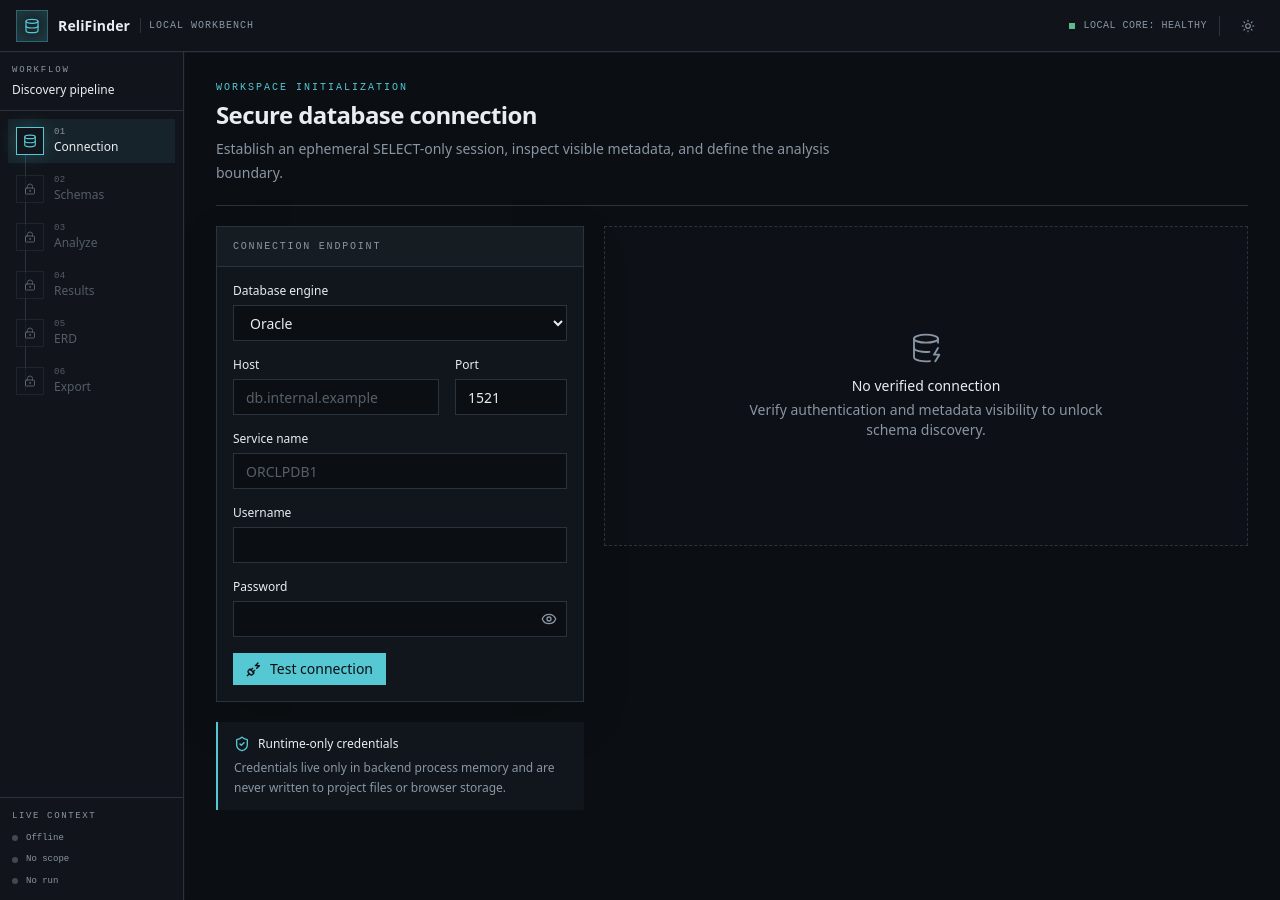
Test case: secure connection and schema workflow › disables duplicate submission while connection verification is running
Type "db.example.invalid" into the field labelled "Host" at (336, 397), box [233, 379, 439, 415]
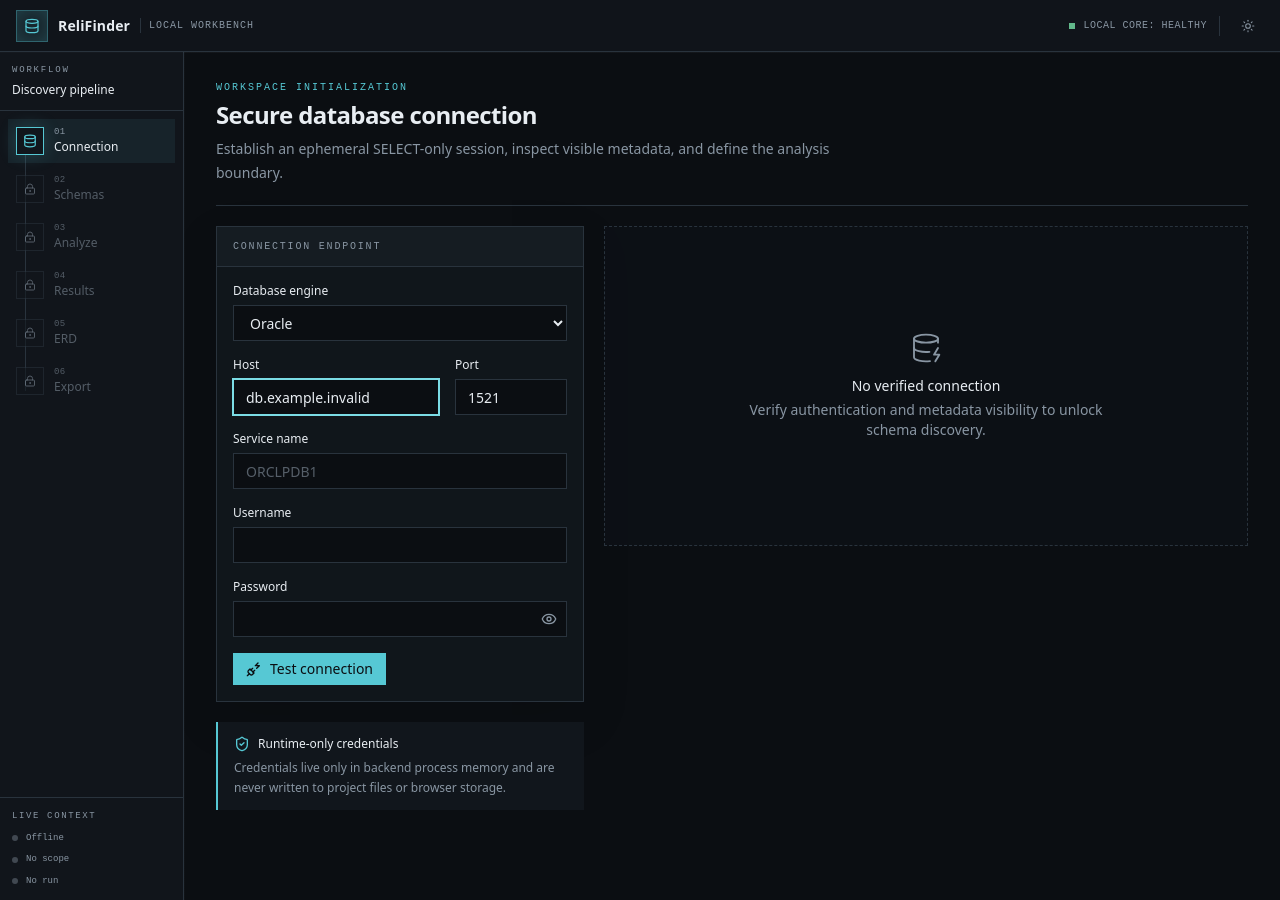
Type "FAKE_SERVICE" into the field labelled "Service name" at (400, 471), box [233, 453, 567, 489]
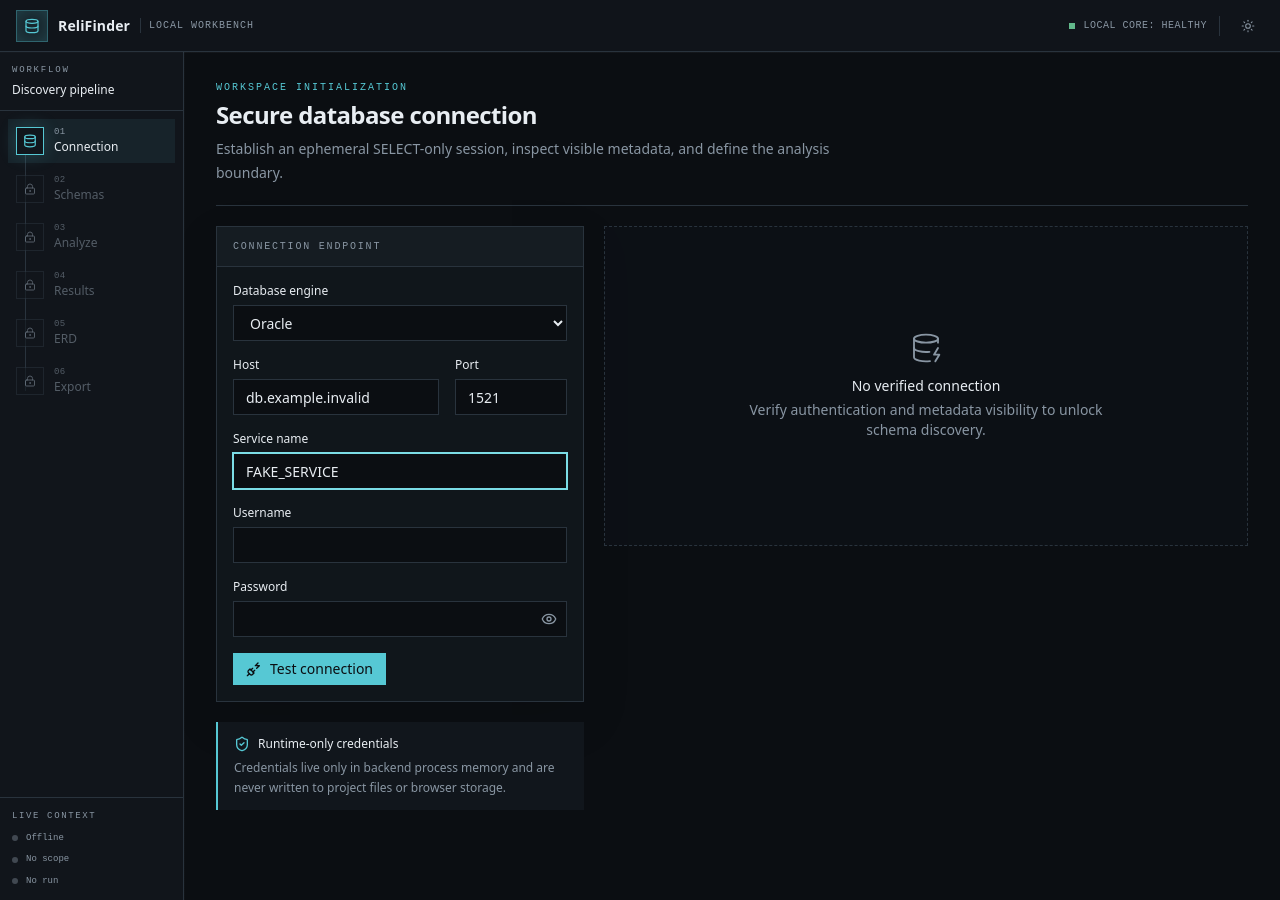
Type "FAKE_USER" into the field labelled "Username" at (400, 545), box [233, 527, 567, 563]
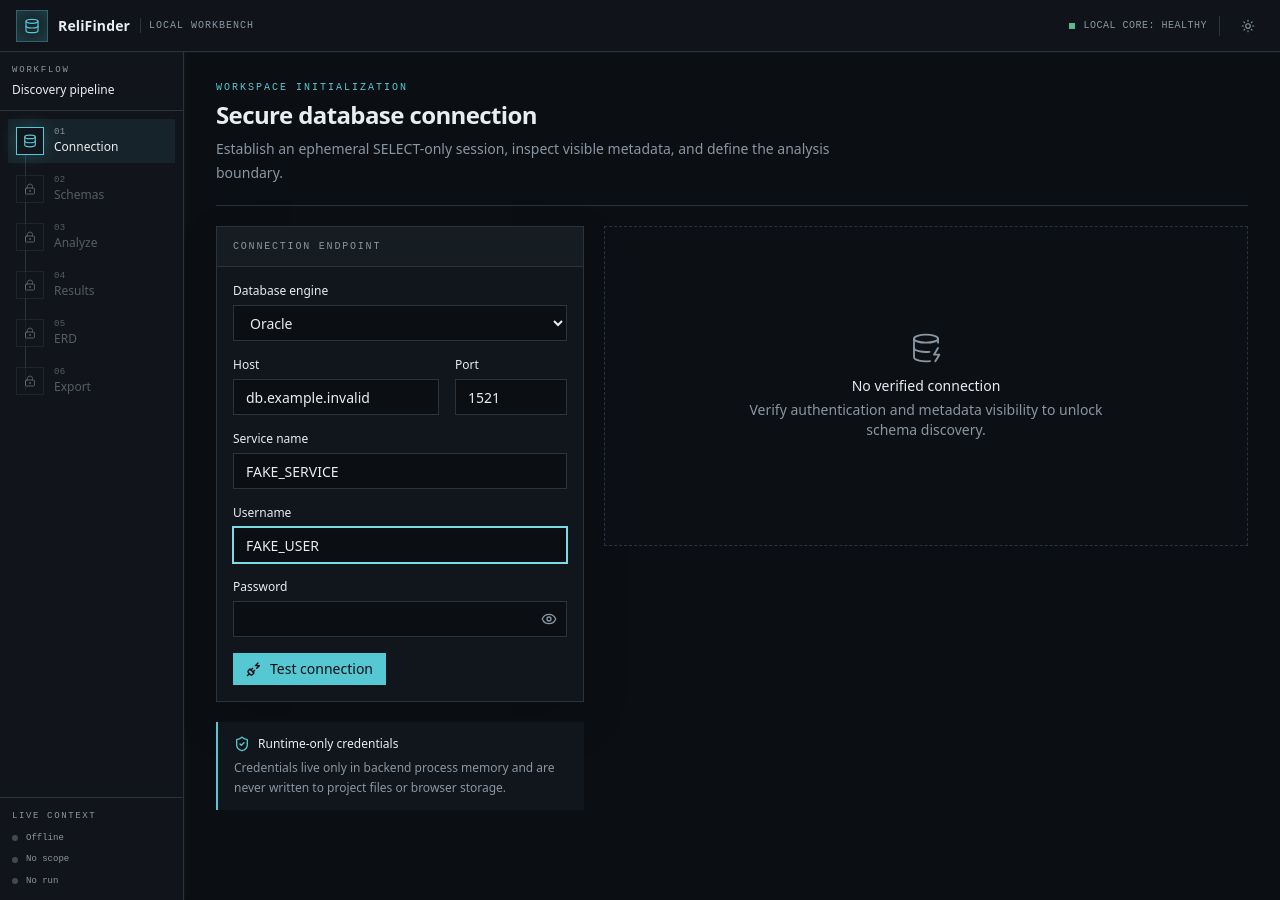
Type "fake-browser-password-9Z!" into the password field labelled "Password" at (400, 619), box [233, 601, 567, 637]
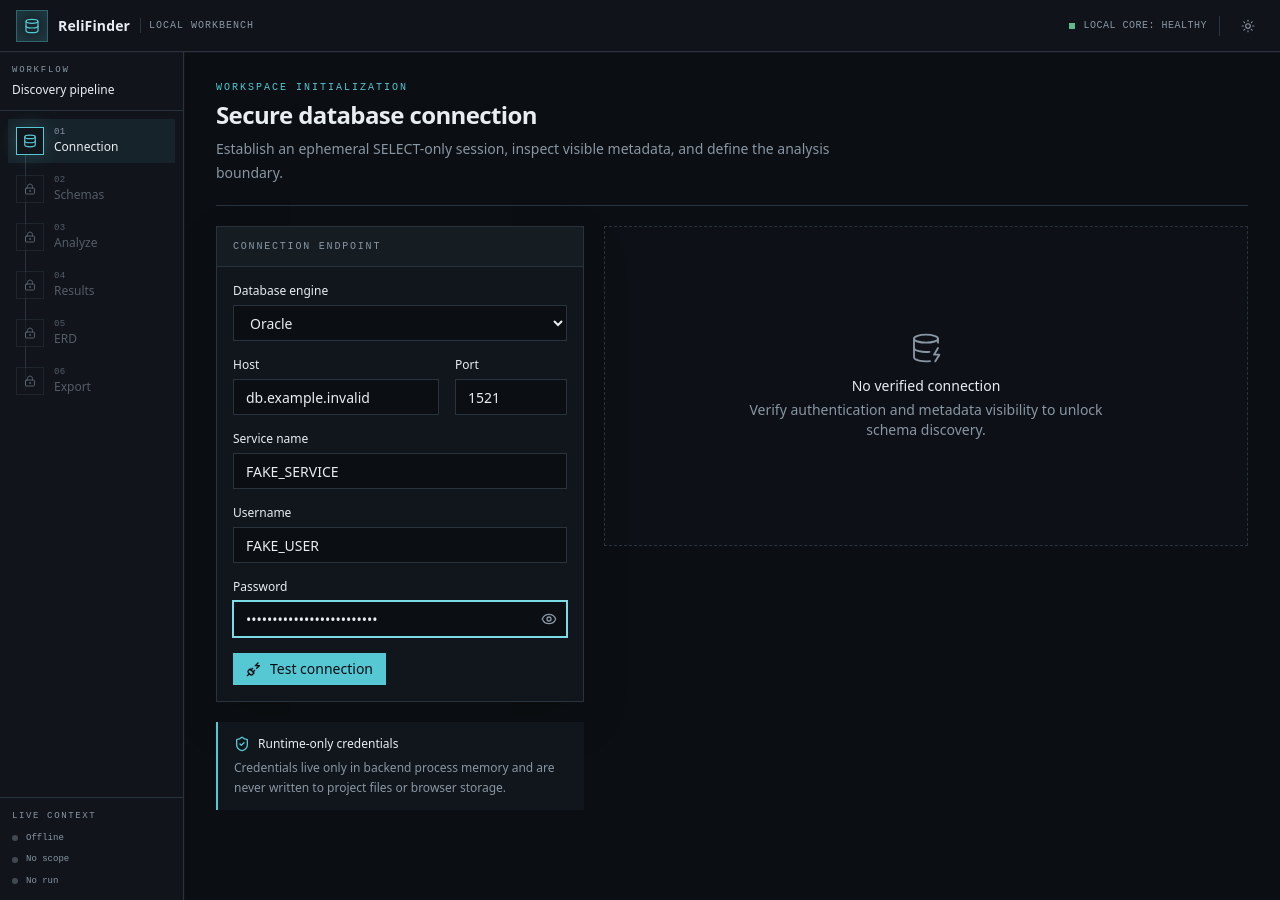
Click the button "Test connection" at (310, 669), box [233, 653, 386, 685]
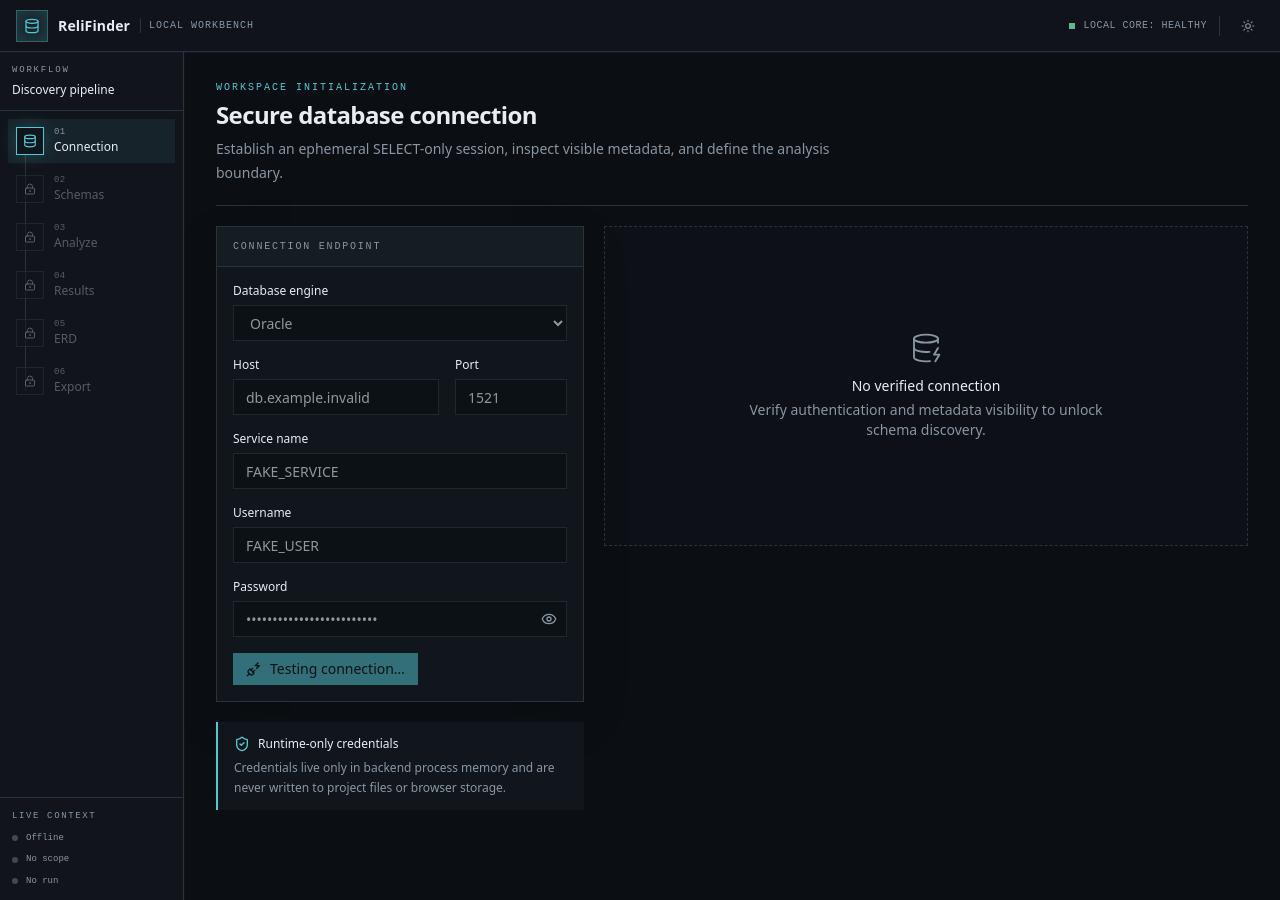
Expected: the button "Testing connection…" is disabled, [233, 653, 418, 685]
